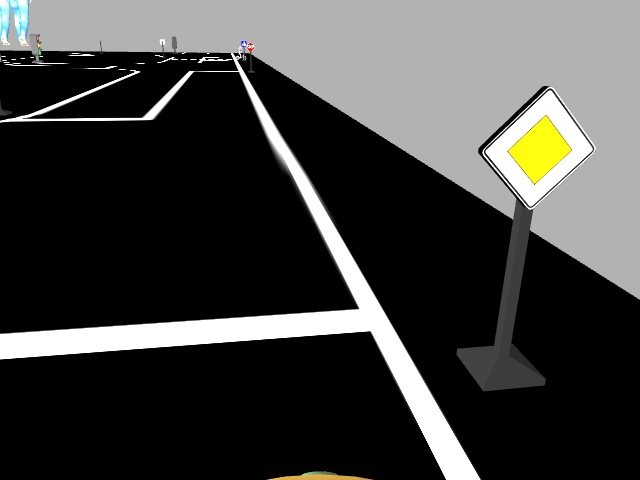Priority: (477, 84, 596, 211)
